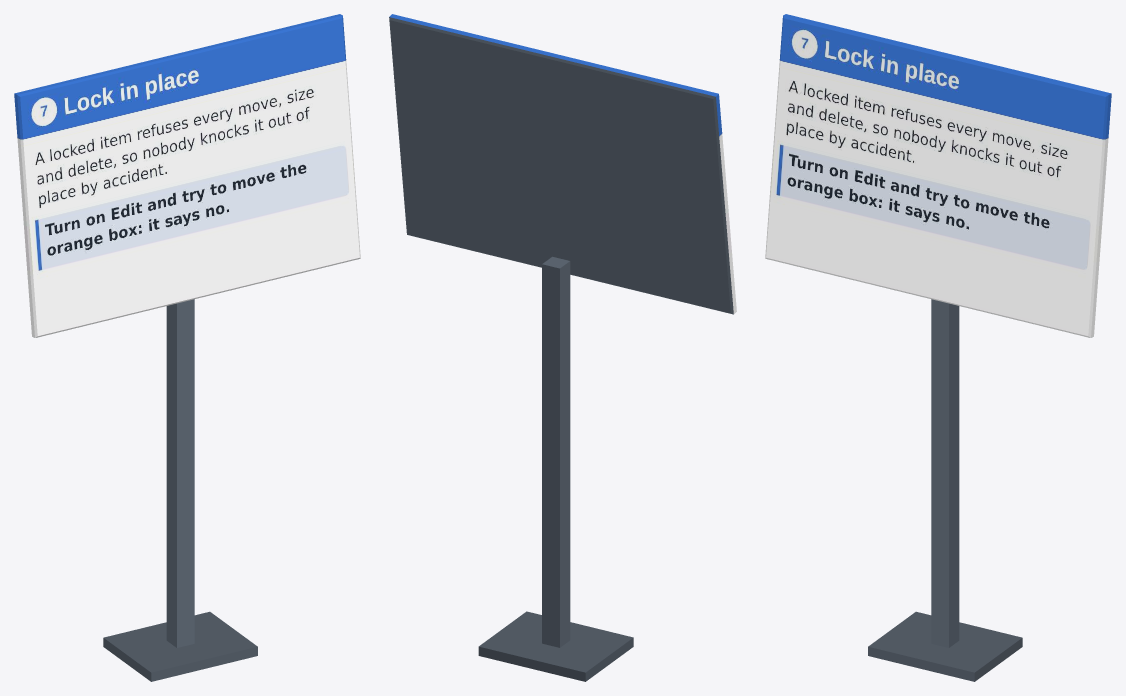
File: 07-lock-in-place.glb
3 views of the same model, side by side, from view 1: azimuth 30°, elevation 25°; view 2: azimuth 150°, elevation 25°; view 3: azimuth 330°, elevation 25° (orthographic).
Visible parts, largest first — view 1: board; view 2: board; view 3: board.
Part boxes in pixels (x1,y1,x2,y2): board: [14, 14, 360, 681]; board: [389, 14, 736, 681]; board: [765, 14, 1111, 681].
Bounding box in the file's own units: 1.1 × 1.92 × 0.28.
Materials: 1 (1 with a texture image).
